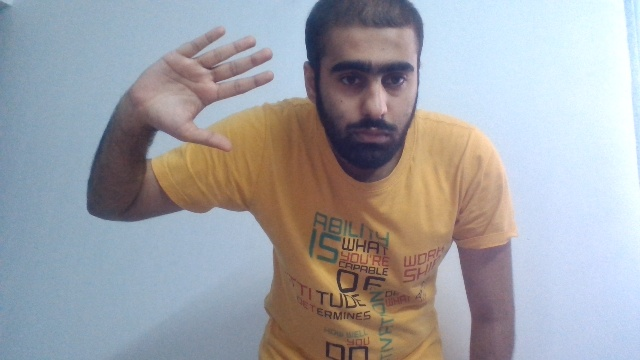paper: (128, 25, 274, 153)
